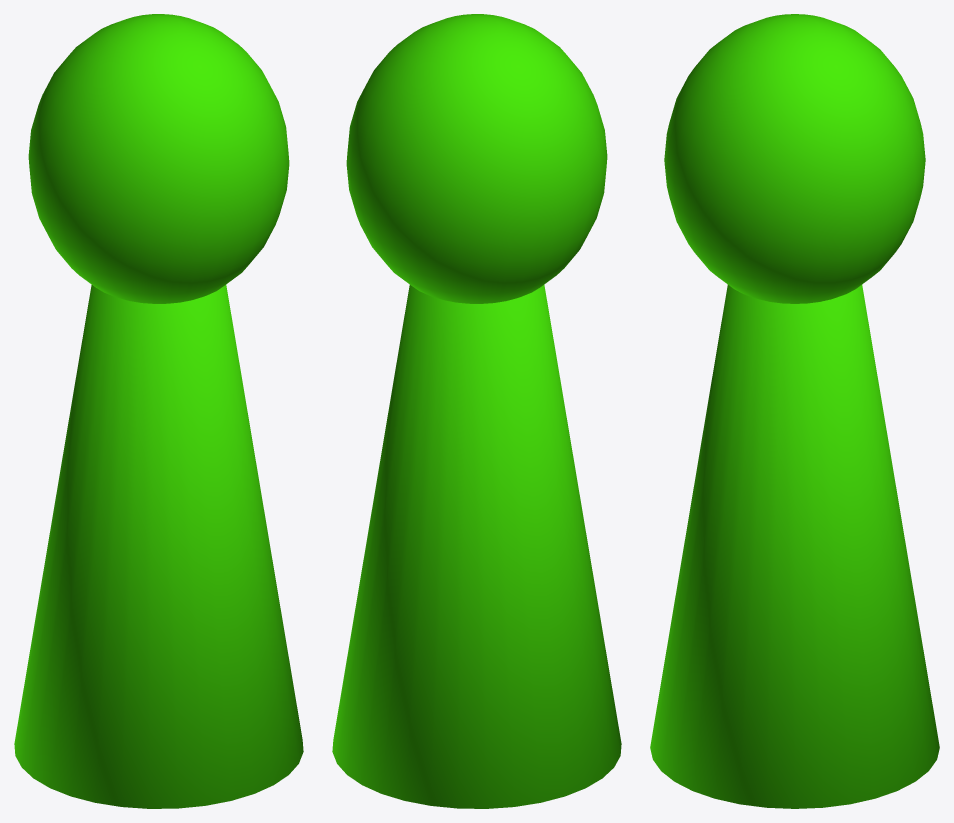
Rendered from pijun.fbx.
The picture shows the model from 3 angles, left to right: view 1: azimuth 30°, elevation 25°; view 2: azimuth 150°, elevation 25°; view 3: azimuth 270°, elevation 25°; orthographic projection.
Visible parts, largest first — view 1: Pijun; view 2: Pijun; view 3: Pijun.
Part boxes in pixels (<box>): Pijun: <box>14,14,303,808</box>; Pijun: <box>332,14,621,808</box>; Pijun: <box>650,14,939,808</box>.
Bounding box in the file's own units: 100 × 275 × 100.
